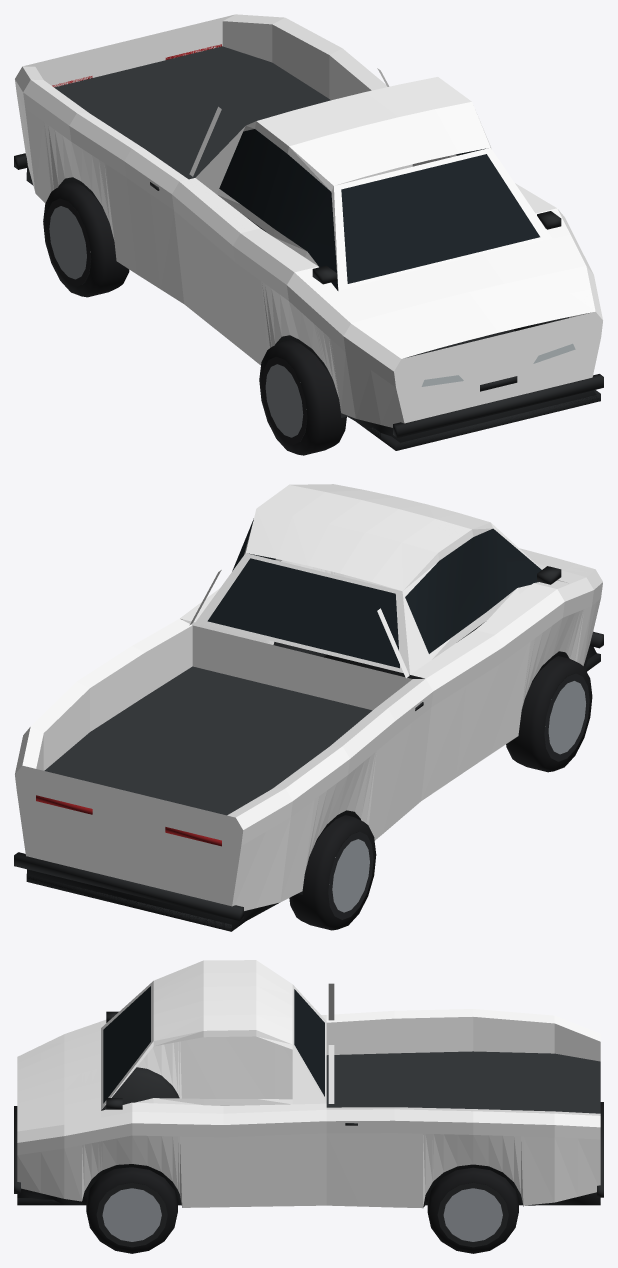
The model's file is whitlock_ferreiro.glb.
3 renders of one model, top to bottom at view 1: azimuth 30°, elevation 25°; view 2: azimuth 150°, elevation 25°; view 3: azimuth 270°, elevation 25°, orthographic. The views are drawn at different scales.
Parts seen in each view (by area): view 1: Body_Paint, Body_Details, Mount_FrontLeft_Wheel_Details, Mount_RearLeft_Wheel_Details; view 2: Body_Paint, Body_Details, Mount_FrontLeft_Wheel_Details, Mount_RearLeft_Wheel_Details; view 3: Body_Paint, Body_Details, Mount_FrontRight_Wheel_Details, Mount_RearRight_Wheel_Details.
Part boxes in pixels (<box>): Body_Paint: <box>15,14,602,427</box>; Body_Details: <box>14,44,603,450</box>; Mount_FrontLeft_Wheel_Details: <box>259,340,346,455</box>; Mount_RearLeft_Wheel_Details: <box>43,182,129,297</box>; Body_Paint: <box>15,484,602,910</box>; Body_Details: <box>14,518,603,931</box>; Mount_FrontLeft_Wheel_Details: <box>506,656,592,772</box>; Mount_RearLeft_Wheel_Details: <box>289,815,376,930</box>; Body_Paint: <box>17,960,600,1208</box>; Body_Details: <box>14,986,603,1207</box>; Mount_FrontRight_Wheel_Details: <box>86,1167,177,1253</box>; Mount_RearRight_Wheel_Details: <box>427,1167,518,1253</box>.
Bounding box in the file's own units: 2.06 × 1.84 × 4.7.
Materials: 2 (1 with a texture image).
